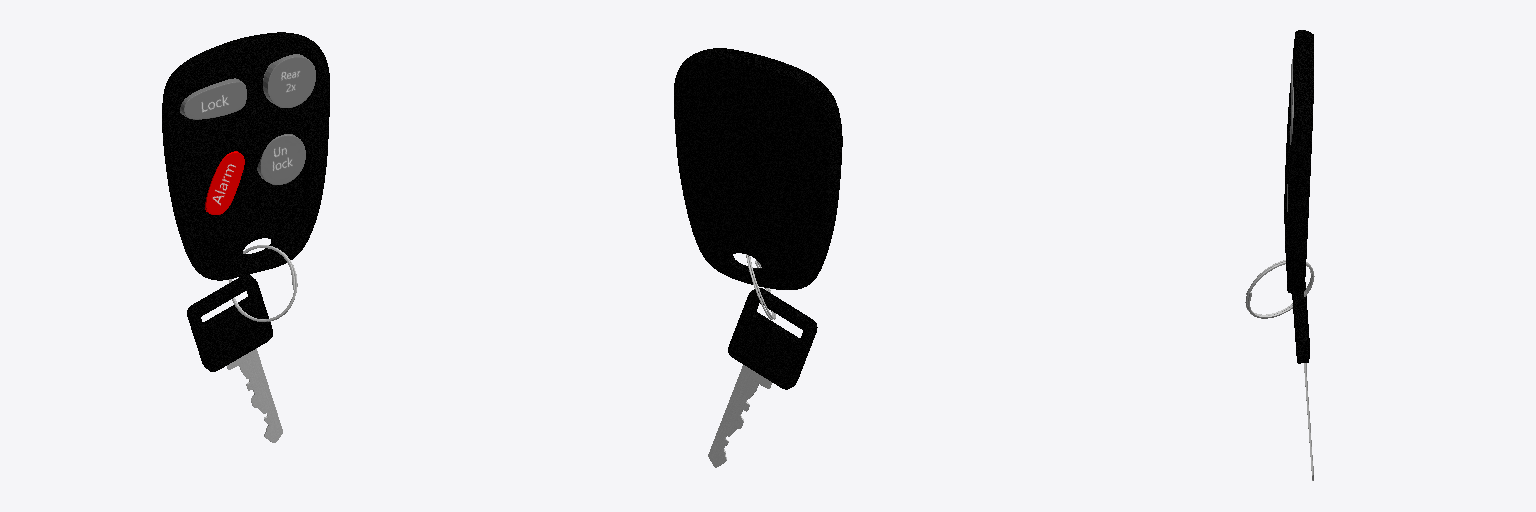
3 views of the same model, side by side, from view 1: azimuth 30°, elevation 25°; view 2: azimuth 150°, elevation 25°; view 3: azimuth 270°, elevation 25° (orthographic).
Visible parts, largest first — view 1: 13491_Set_Of_Keys; view 2: 13491_Set_Of_Keys; view 3: 13491_Set_Of_Keys.
Boxes of the visible parts, x1,y1,x2,y2 form: 13491_Set_Of_Keys: [162, 32, 329, 442]; 13491_Set_Of_Keys: [674, 48, 842, 467]; 13491_Set_Of_Keys: [1245, 30, 1314, 480].
Bounding box in the file's own units: 2.11 × 5.14 × 0.7736.
1 materials, 1 textured.